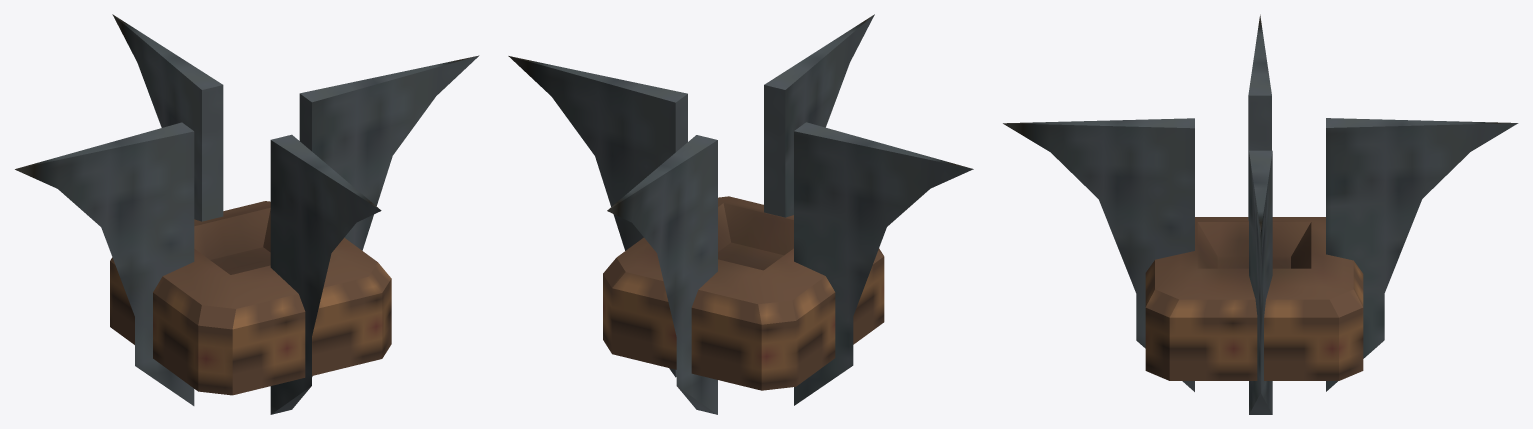
Rendered from FirePit_SmallB.fbx.
3 views of the same model, side by side, from view 1: azimuth 30°, elevation 25°; view 2: azimuth 150°, elevation 25°; view 3: azimuth 270°, elevation 25° (orthographic). The views are drawn at different scales.
Visible parts, largest first — view 1: FirePit_SmallB; view 2: FirePit_SmallB; view 3: FirePit_SmallB.
Boxes of the visible parts, x1,y1,x2,y2 form: FirePit_SmallB: (15, 14, 479, 414); FirePit_SmallB: (508, 14, 973, 414); FirePit_SmallB: (1003, 14, 1518, 414).
Bounding box in the file's own units: 211 × 119 × 211.
